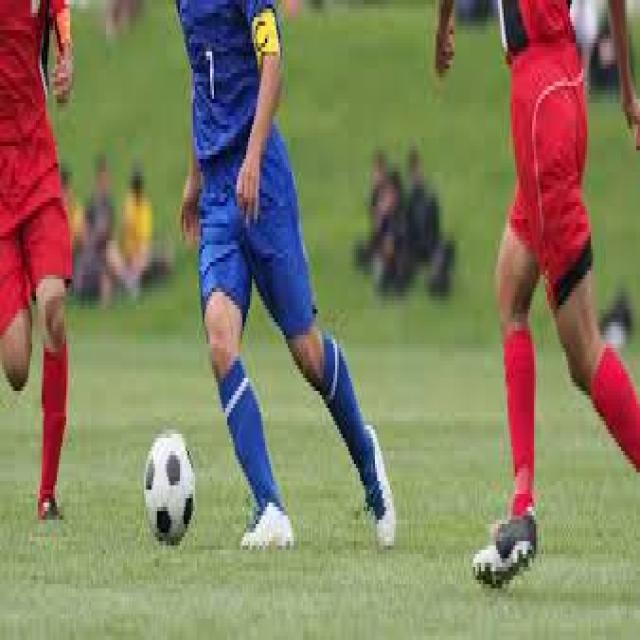ball: (144, 431, 197, 548)
